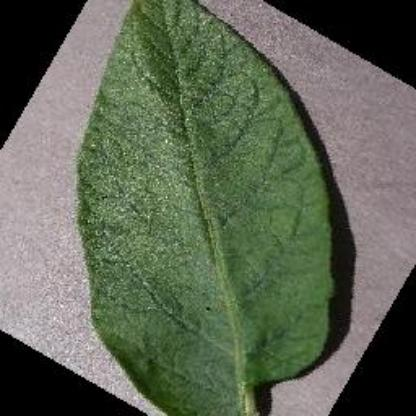Healthy-plant: (64, 0, 348, 416)
